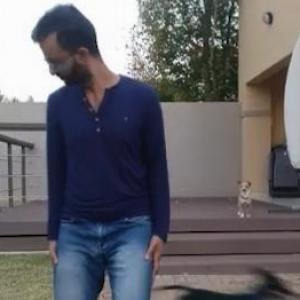follow: (137, 0, 299, 299), (36, 0, 167, 299)
